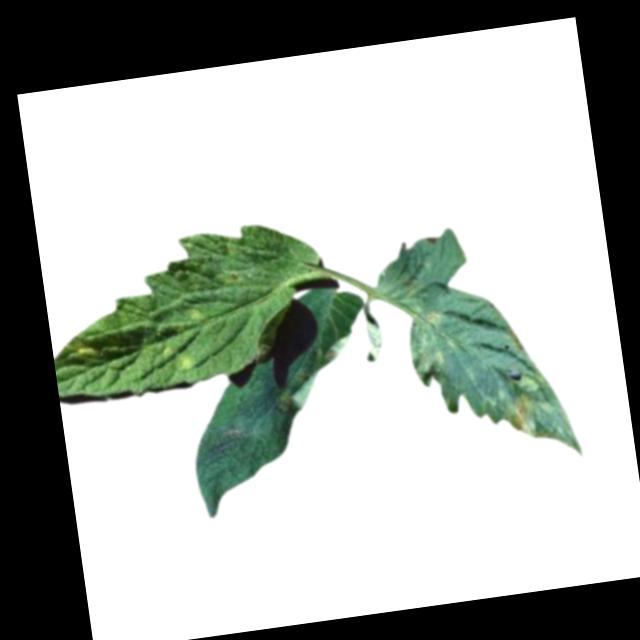Leaf_Mold: (272, 334, 360, 412), (403, 307, 456, 384), (504, 374, 552, 442), (156, 340, 198, 376), (74, 335, 104, 365)
